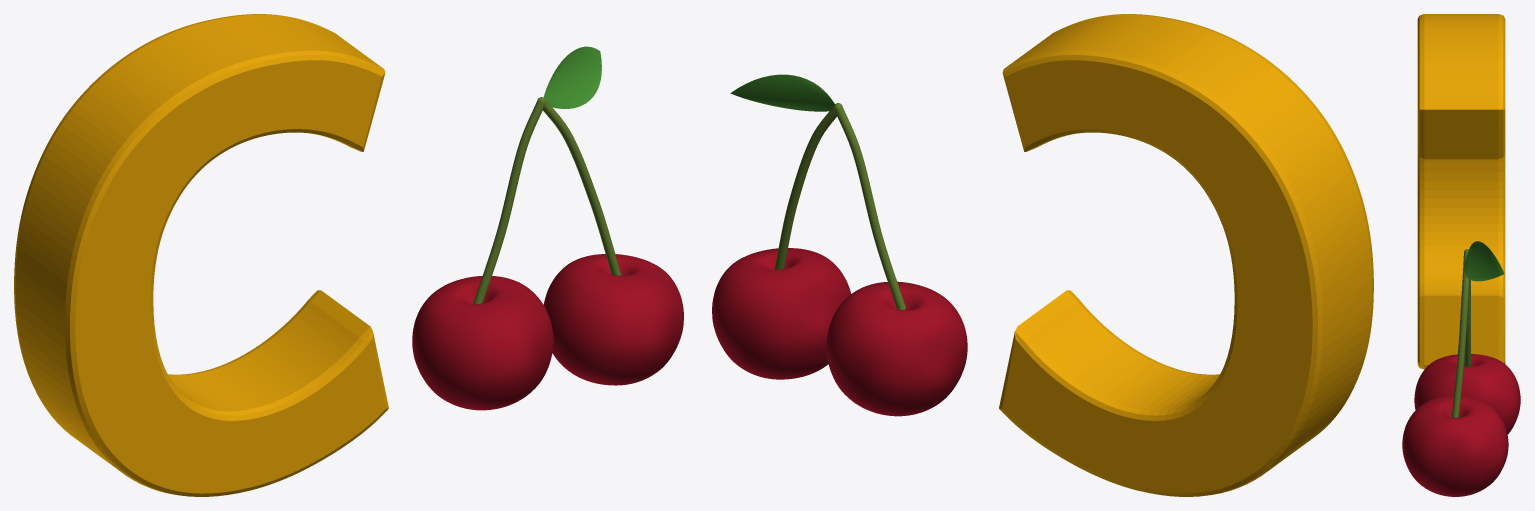
File: cherry-ar.glb
3 views of the same model, side by side, from view 1: azimuth 30°, elevation 25°; view 2: azimuth 150°, elevation 25°; view 3: azimuth 270°, elevation 25° (orthographic). The views are drawn at different scales.
Parts seen in each view (by area): view 1: Letter C, Cherries; view 2: Letter C, Cherries; view 3: Letter C, Cherries.
Part boxes in pixels (x1,y1,x2,y2): Letter C: (14,14,388,496); Cherries: (412,46,683,410); Letter C: (999,14,1373,496); Cherries: (712,74,967,416); Letter C: (1417,14,1505,369); Cherries: (1402,241,1520,496).
Size of the model in its own units: 0.5412 by 0.3526 by 0.1172.
